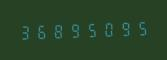eight: (49, 21, 64, 40)
five: (81, 20, 96, 39), (129, 18, 144, 37)
nine: (65, 20, 80, 40), (113, 18, 128, 38)
six: (33, 21, 48, 41)
three: (17, 22, 32, 41)
zero: (97, 19, 112, 38)
